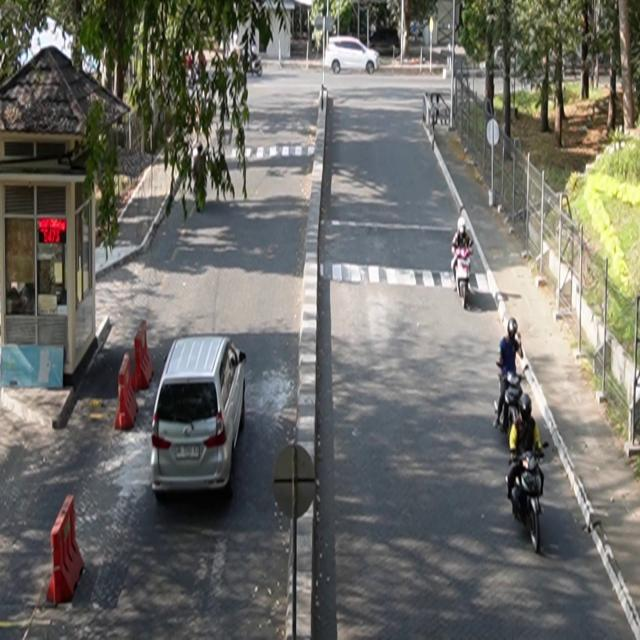car: (152, 335, 248, 498), (326, 37, 382, 76)
